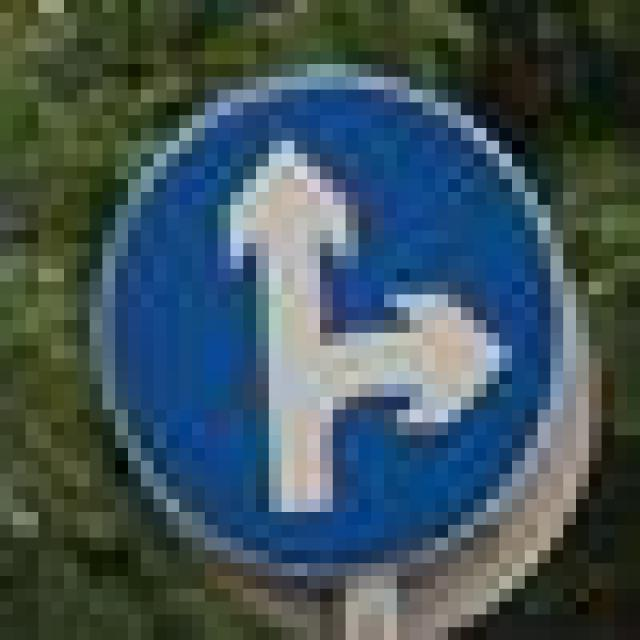compulsory_ahead_or_left: (77, 51, 563, 576)
